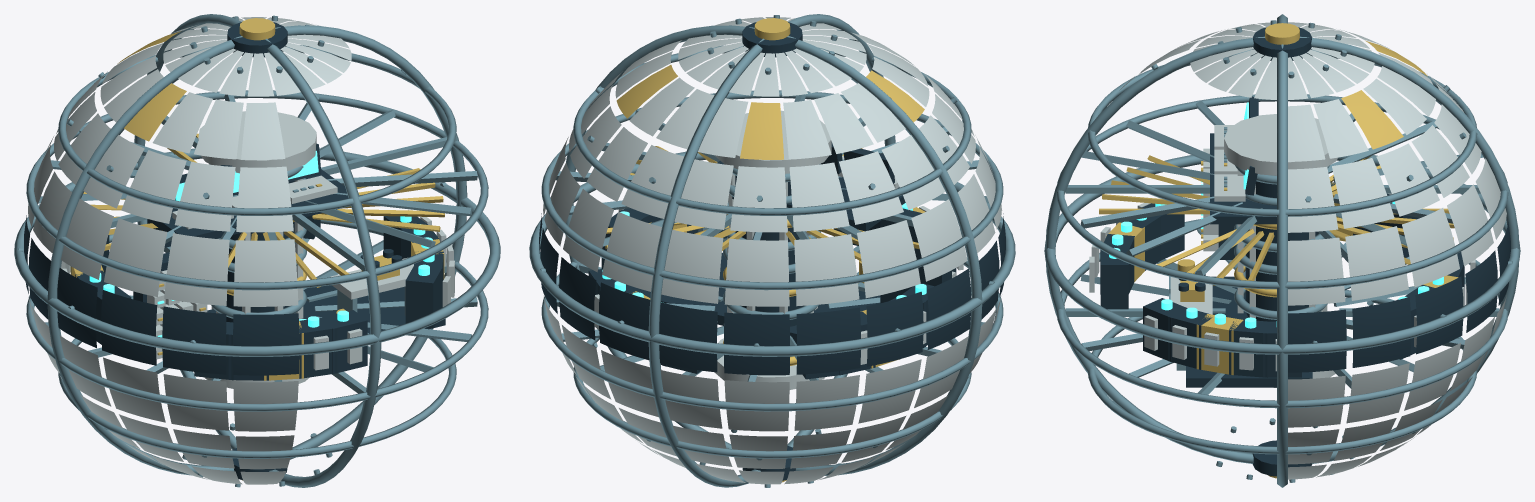
The picture shows the model from 3 angles, left to right: view 1: azimuth 30°, elevation 25°; view 2: azimuth 150°, elevation 25°; view 3: azimuth 270°, elevation 25°; orthographic projection. The views are drawn at different scales.
Visible parts, largest first — view 1: OuterShell_ceramic, Framework_steel, OuterShell_dark, Core_ceramic, OTSAW_Sector_dark, Ecovolt_Sector_dark, OuterShell_yellow, Ecovolt_Sector_yellow, ProjectBay_dark, ControlRoom_dark, OTSAW_Sector_yellow, ControlRoom_ceramic (+9 smaller); view 2: OuterShell_ceramic, Framework_steel, OuterShell_dark, OuterShell_yellow, Core_ceramic, ProjectBay_dark, ControlRoom_dark, Core_steel, OuterShell_steel, Archives_dark, Core_dark, ASTAR_Sector_dark (+3 smaller); view 3: Framework_steel, OuterShell_ceramic, OuterShell_dark, Core_ceramic, Ecovolt_Sector_dark, OTSAW_Sector_dark, OuterShell_yellow, Ecovolt_Sector_yellow, ProjectBay_dark, OTSAW_Sector_yellow, Core_steel, ControlRoom_dark (+11 smaller).
Part boxes in pixels (<box>): OuterShell_ceramic: <box>28,17,351,484</box>; Framework_steel: <box>14,14,500,487</box>; OuterShell_dark: <box>24,22,299,479</box>; Core_ceramic: <box>198,111,316,388</box>; OTSAW_Sector_dark: <box>194,310,367,380</box>; Ecovolt_Sector_dark: <box>383,216,443,328</box>; OuterShell_yellow: <box>117,18,275,480</box>; Ecovolt_Sector_yellow: <box>312,168,444,279</box>; ProjectBay_dark: <box>207,249,445,333</box>; ControlRoom_dark: <box>147,143,348,238</box>; OTSAW_Sector_yellow: <box>228,231,349,380</box>; ControlRoom_ceramic: <box>172,175,337,229</box>; OuterShell_ceramic: <box>543,17,1001,484</box>; Framework_steel: <box>529,14,1015,487</box>; OuterShell_dark: <box>539,22,1005,480</box>; OuterShell_yellow: <box>616,18,924,482</box>; Core_ceramic: <box>714,110,831,389</box>; ProjectBay_dark: <box>633,252,880,343</box>; ControlRoom_dark: <box>717,142,905,231</box>; Core_steel: <box>723,163,820,324</box>; OuterShell_steel: <box>540,15,1004,487</box>; Archives_dark: <box>880,208,951,303</box>; Core_dark: <box>735,175,803,344</box>; ASTAR_Sector_dark: <box>802,283,934,379</box>; Framework_steel: <box>1044,14,1520,487</box>; OuterShell_ceramic: <box>1119,22,1506,479</box>; OuterShell_dark: <box>1252,27,1510,476</box>; Core_ceramic: <box>1224,114,1337,387</box>; Ecovolt_Sector_dark: <box>1143,298,1301,377</box>; OTSAW_Sector_dark: <box>1100,203,1184,309</box>; OuterShell_yellow: <box>1265,23,1427,478</box>; Ecovolt_Sector_yellow: <box>1156,229,1274,374</box>; ProjectBay_dark: <box>1178,272,1312,387</box>; OTSAW_Sector_yellow: <box>1099,155,1209,281</box>; Core_steel: <box>1234,165,1330,319</box>; ControlRoom_dark: <box>1210,96,1276,224</box>.
Size of the model in its own units: 5.45 by 5.57 by 5.45.
